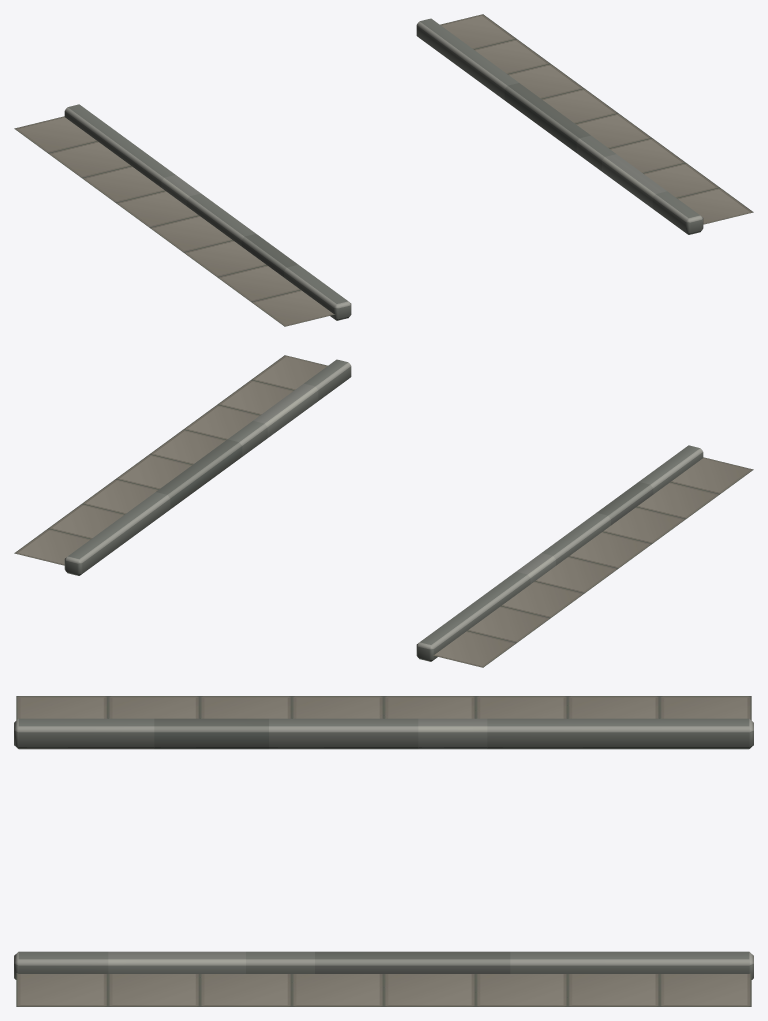
Rendered from straight.glb.
3 renders of one model, top to bottom at view 1: azimuth 30°, elevation 25°; view 2: azimuth 150°, elevation 25°; view 3: azimuth 270°, elevation 25°, orthographic. The views are drawn at different scales.
Parts seen in each view (by area): view 1: road_section_x8_sidewalk, road_section_x8; view 2: road_section_x8_sidewalk, road_section_x8; view 3: road_section_x8_sidewalk, road_section_x8.
Boxes of the visible parts, box(x1,y1,x2,y2) form: road_section_x8_sidewalk: box(14, 14, 753, 326); road_section_x8: box(64, 18, 703, 320); road_section_x8_sidewalk: box(14, 355, 753, 667); road_section_x8: box(64, 359, 703, 661); road_section_x8_sidewalk: box(16, 696, 751, 1006); road_section_x8: box(14, 718, 753, 979).
Bounding box in the file's own units: 16 × 0.55 × 16.1.
Materials: 2 (2 with a texture image).
